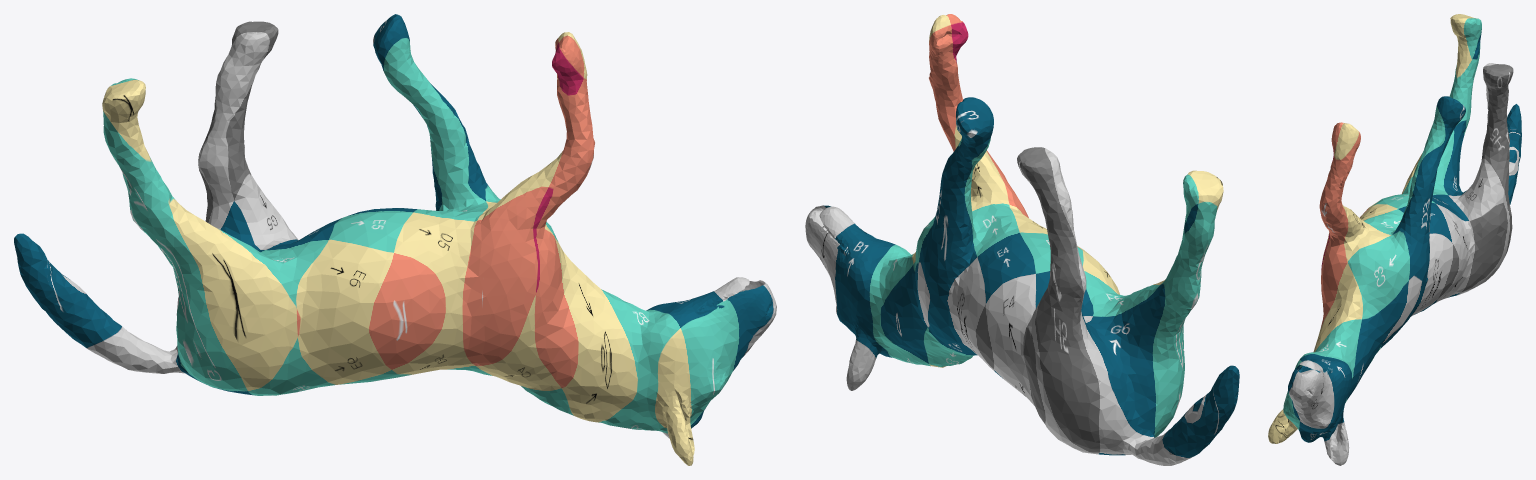
File: cow_04-horse_01.obj
3 renders of one model, left to right at view 1: azimuth 30°, elevation 25°; view 2: azimuth 150°, elevation 25°; view 3: azimuth 270°, elevation 25°, orthographic. The views are drawn at different scales.
Visible parts, largest first — view 1: cow_04-horse_01_export; view 2: cow_04-horse_01_export; view 3: cow_04-horse_01_export.
Boxes of the visible parts, left/top/right/bottom form: cow_04-horse_01_export: left=14, top=14, right=776, bottom=465; cow_04-horse_01_export: left=805, top=14, right=1239, bottom=465; cow_04-horse_01_export: left=1268, top=14, right=1521, bottom=465.
Size of the model in its own units: 1.09 by 0.7289 by 0.5466.
